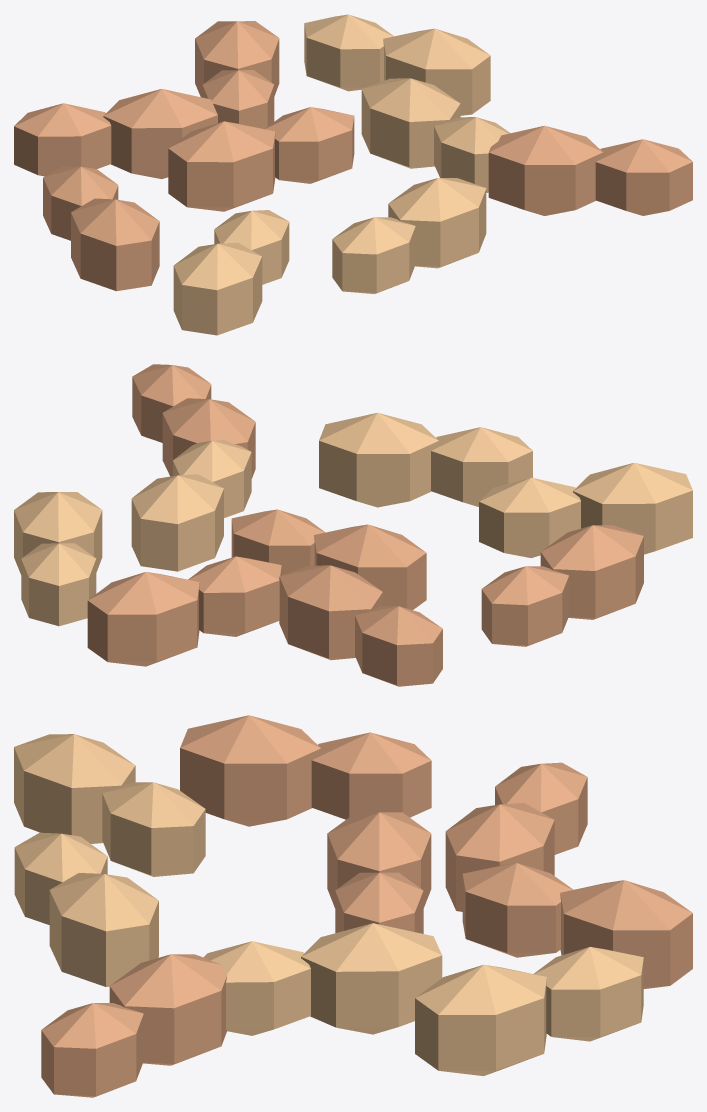
File: peanut-raw.glb
The picture shows the model from 3 angles, top to bottom: view 1: azimuth 30°, elevation 25°; view 2: azimuth 150°, elevation 25°; view 3: azimuth 270°, elevation 25°; orthographic projection. The views are drawn at different scales.
Parts seen in each view (by area): view 1: peanut-raw; view 2: peanut-raw; view 3: peanut-raw.
Boxes of the visible parts, left/top/right/bottom form: peanut-raw: left=14, top=14, right=692, bottom=335; peanut-raw: left=14, top=364, right=692, bottom=686; peanut-raw: left=14, top=715, right=692, bottom=1097.
Bounding box in the file's own units: 0.1996 × 0.032 × 0.1766.
Materials: 1 (1 with a texture image).
